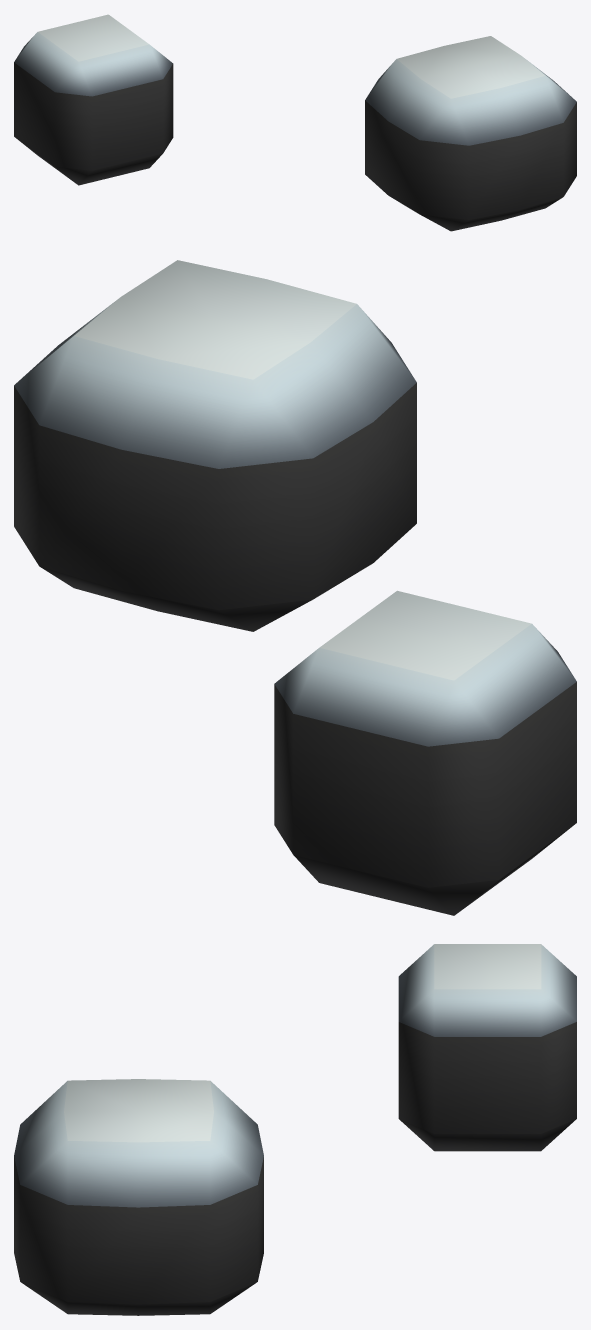
Rendered from Pebbles_Snow_2.fbx.
The picture shows the model from 3 angles, top to bottom: view 1: azimuth 30°, elevation 25°; view 2: azimuth 150°, elevation 25°; view 3: azimuth 270°, elevation 25°; orthographic projection. The views are drawn at different scales.
Parts seen in each view (by area): view 1: Pebbles_Snow_2_LOD0; view 2: Pebbles_Snow_2_LOD0; view 3: Pebbles_Snow_2_LOD0.
Part boxes in pixels (x1,y1,x2,y2): Pebbles_Snow_2_LOD0: [14, 14, 576, 231]; Pebbles_Snow_2_LOD0: [14, 260, 576, 915]; Pebbles_Snow_2_LOD0: [14, 944, 576, 1315].
Size of what is drawn, in the model's own units: 0.4895 by 0.1608 by 0.4731.
